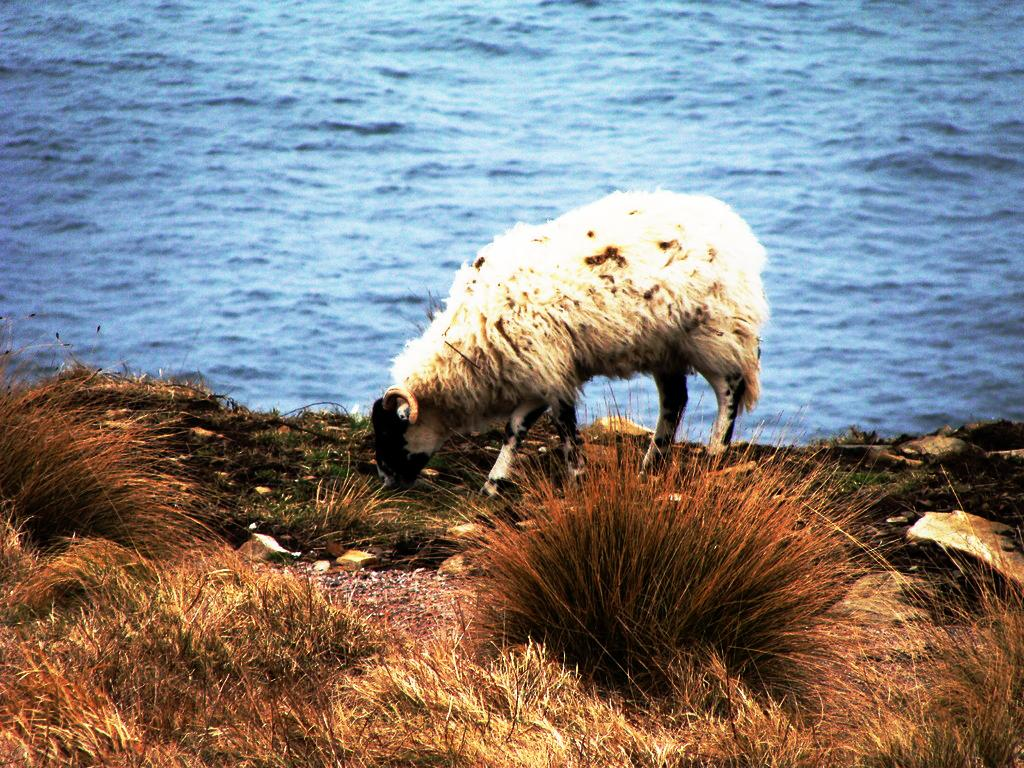Sheep: (362, 190, 766, 496)
